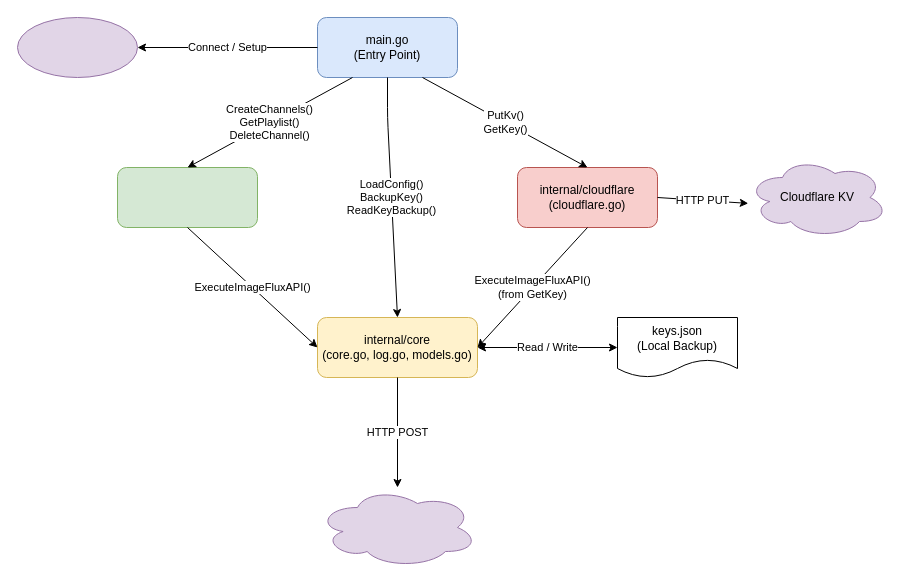
This 905x585 diagram has some shape labels left out. Each missing label, with the box of its shape:
goobs (OBS WebSocket): (16, 16, 138, 78)
ImageFlux API: (316, 486, 478, 568)
internal/channel (channel.go): (116, 166, 258, 228)
